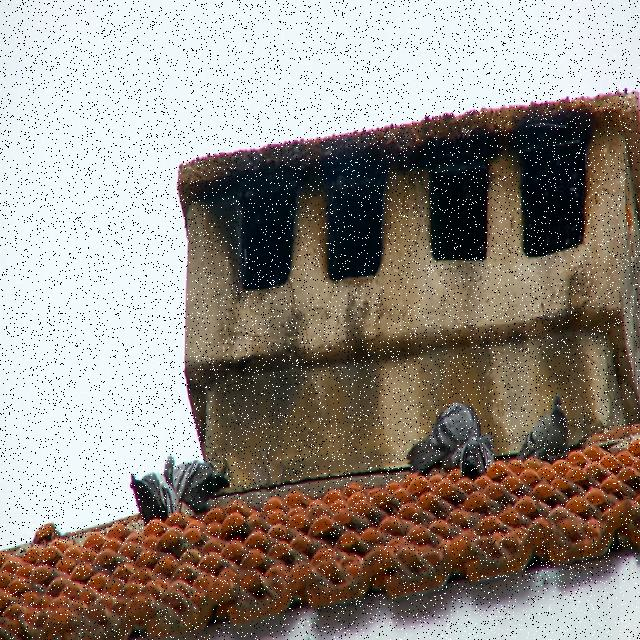bird: (406, 402, 480, 478), (516, 393, 570, 463), (170, 459, 230, 514), (460, 434, 494, 482)
